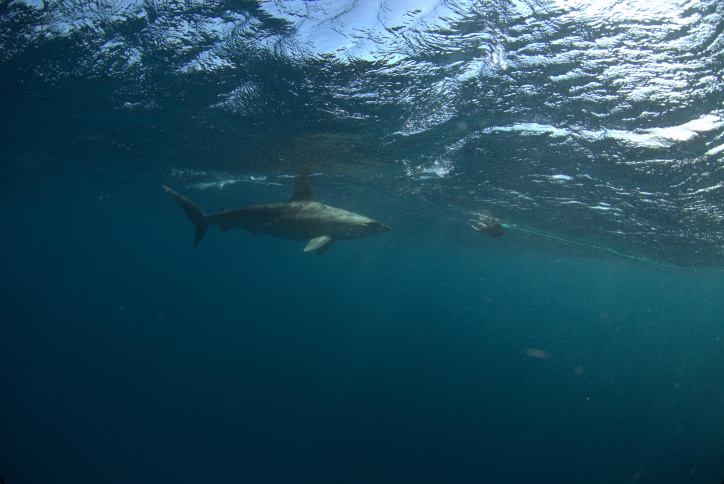Hammer: (138, 153, 455, 302)
